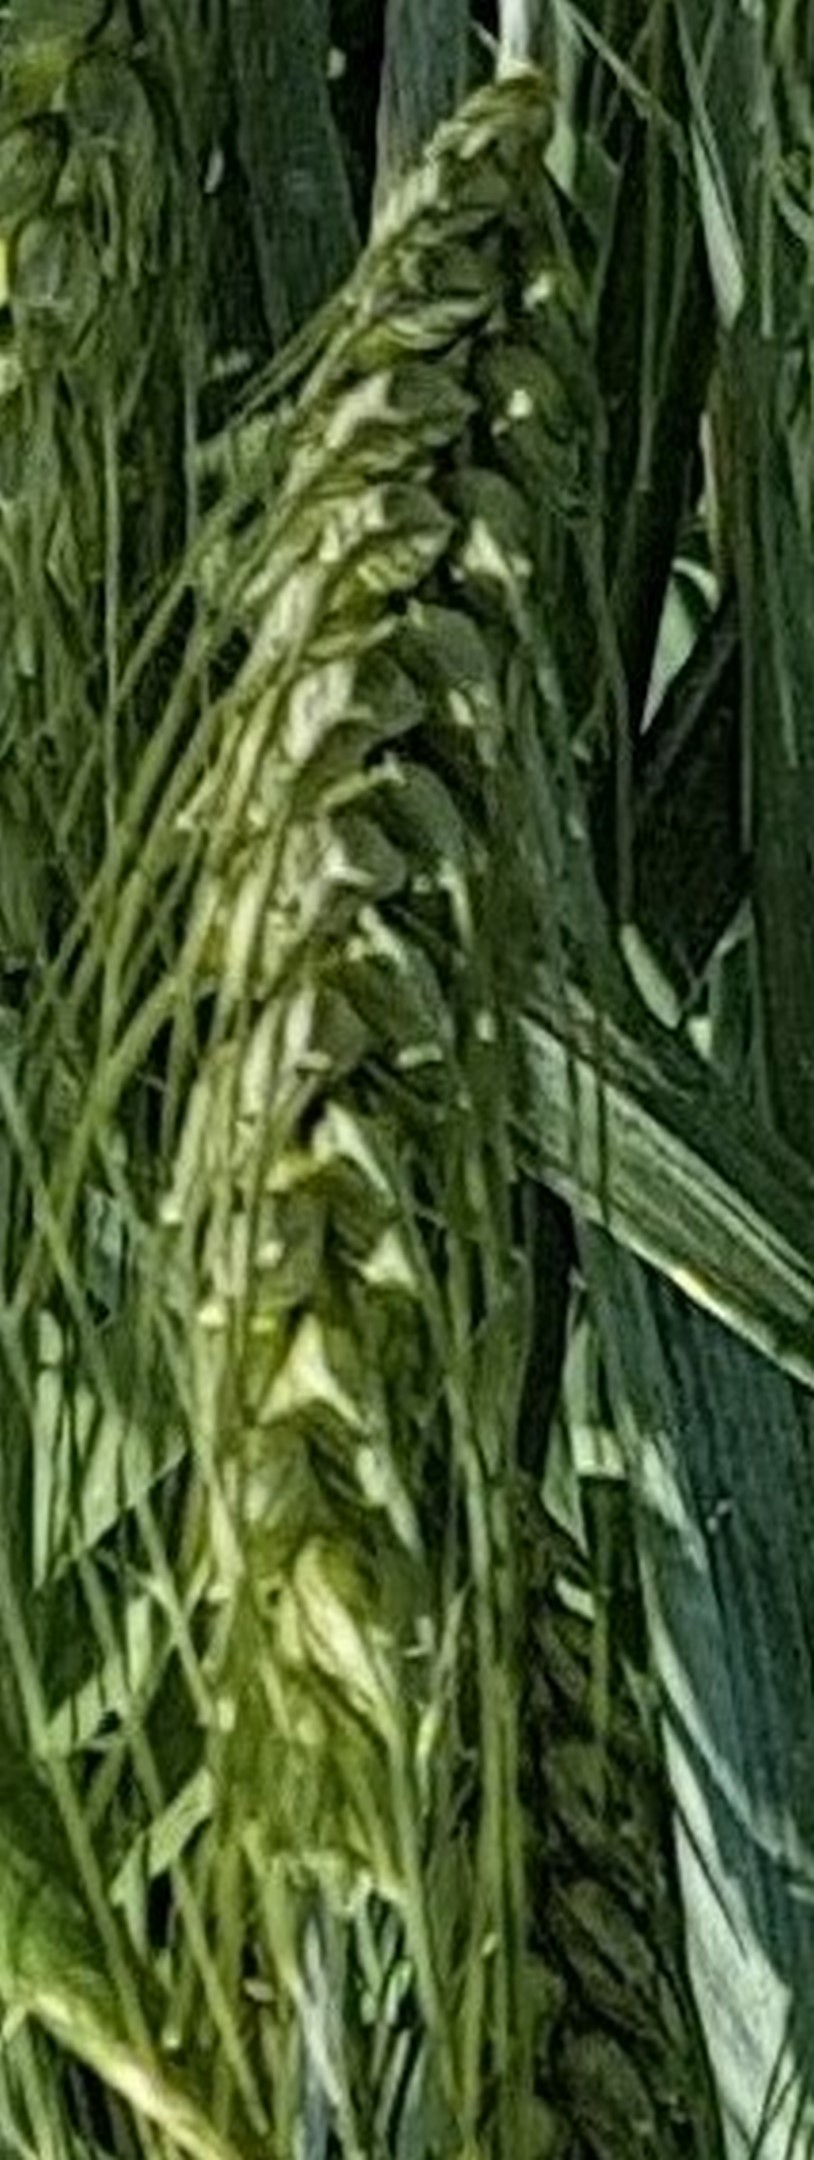Healthy Wheat: (161, 84, 650, 1740)
